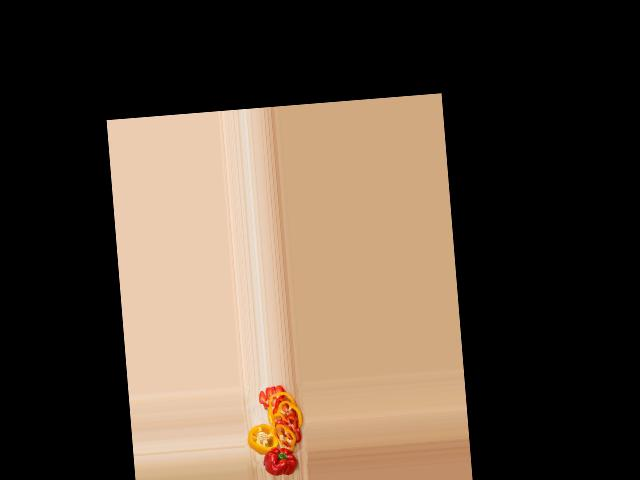bell_pepper: (245, 421, 278, 454)
